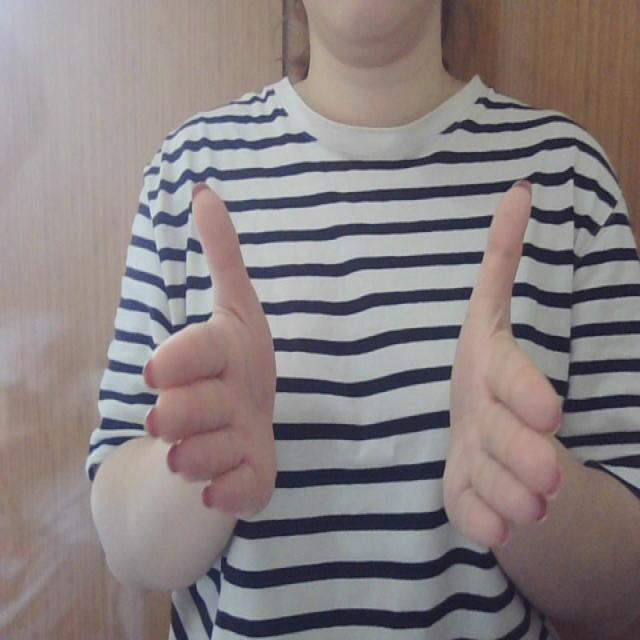Nasil: (135, 167, 574, 558)
